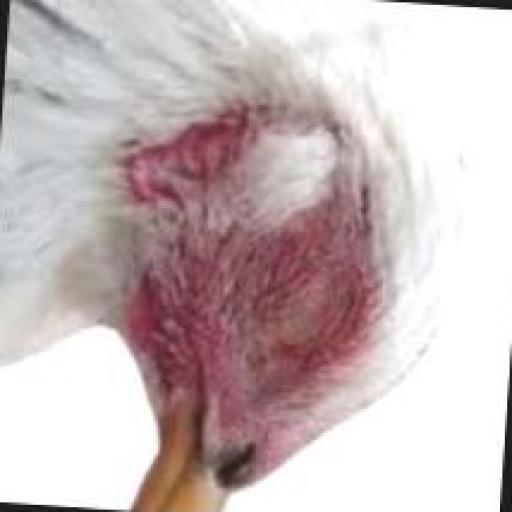disease: (243, 235, 374, 368)
